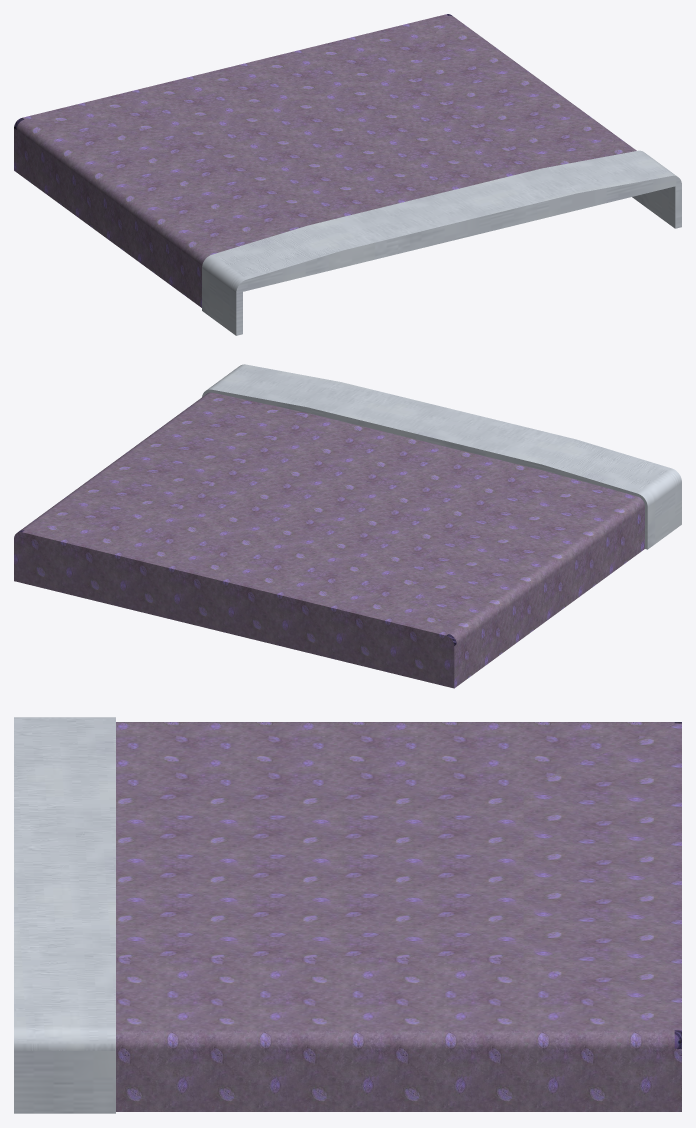
The model's file is bedsheet.obj.
The picture shows the model from 3 angles, top to bottom: view 1: azimuth 30°, elevation 25°; view 2: azimuth 150°, elevation 25°; view 3: azimuth 270°, elevation 25°; orthographic projection. The views are drawn at different scales.
Parts seen in each view (by area): view 1: Mesh1 Bedding_Duvay1 Model; view 2: Mesh1 Bedding_Duvay1 Model; view 3: Mesh1 Bedding_Duvay1 Model.
Boxes of the visible parts, x1,y1,x2,y2 form: Mesh1 Bedding_Duvay1 Model: [14, 14, 681, 335]; Mesh1 Bedding_Duvay1 Model: [14, 364, 681, 688]; Mesh1 Bedding_Duvay1 Model: [14, 717, 681, 1113].
Size of the model in its own units: 742 by 94.48 by 649.
Materials: 4 (3 with a texture image).
